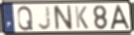8: (93, 4, 109, 31)
A: (109, 4, 131, 31)
J: (37, 5, 53, 31)
K: (73, 5, 89, 30)
N: (52, 4, 74, 32)
Q: (16, 5, 34, 32)
